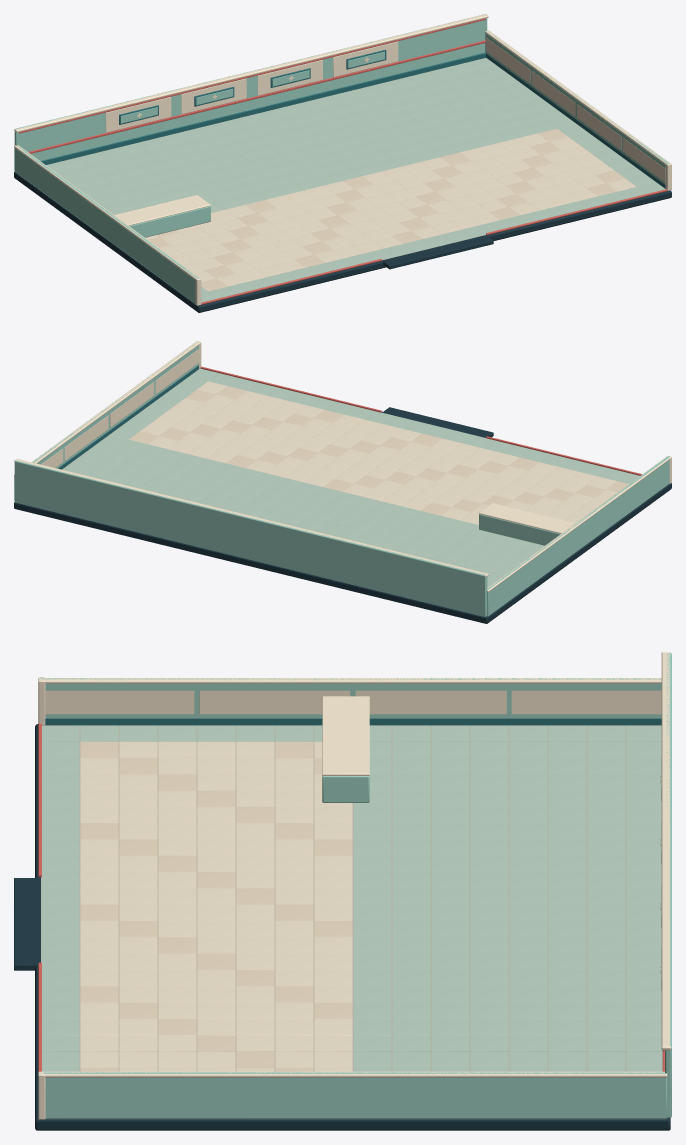
The model's file is center-room.glb.
3 renders of one model, top to bottom at view 1: azimuth 30°, elevation 25°; view 2: azimuth 150°, elevation 25°; view 3: azimuth 270°, elevation 25°, orthographic. The views are drawn at different scales.
Parts seen in each view (by area): view 1: FloorMint, FloorCream, MintCushion, CeramicCream, FloorWarm, SlateRubber, DeepTeal, CoralEnamel, EntranceStep; view 2: MintCushion, FloorMint, FloorCream, FloorWarm, CeramicCream, SlateRubber, CoralEnamel, EntranceStep, DeepTeal; view 3: FloorMint, FloorCream, MintCushion, CeramicCream, FloorWarm, FloorGrout, SlateRubber, DeepTeal, EntranceStep, CoralEnamel.
Boxes of the visible parts, box(x1,y1,x2,y2) form: FloorMint: box(46, 58, 665, 302); FloorCream: box(145, 133, 636, 286); MintCushion: box(14, 14, 669, 303); CeramicCream: box(14, 14, 671, 305); FloorWarm: box(148, 128, 624, 291); SlateRubber: box(14, 172, 671, 312); DeepTeal: box(40, 49, 665, 188); CoralEnamel: box(19, 18, 667, 304); EntranceStep: box(382, 235, 493, 269); MintCushion: box(14, 344, 669, 616); FloorMint: box(62, 368, 639, 587); FloorCream: box(140, 381, 617, 524); FloorWarm: box(129, 386, 628, 515); CeramicCream: box(14, 341, 671, 592); SlateRubber: box(14, 412, 671, 623); CoralEnamel: box(200, 366, 642, 475); EntranceStep: box(382, 407, 493, 437); DeepTeal: box(58, 365, 198, 469); FloorMint: box(41, 725, 662, 1071); FloorCream: box(80, 741, 352, 1071); MintCushion: box(40, 652, 671, 1119); CeramicCream: box(38, 652, 671, 1119); FloorWarm: box(80, 741, 352, 1071); FloorGrout: box(41, 725, 626, 1071); SlateRubber: box(35, 724, 670, 1130); DeepTeal: box(45, 718, 661, 725); EntranceStep: box(14, 878, 40, 970); CoralEnamel: box(38, 723, 664, 1071).
Bounding box in the file's own units: 28.01 × 2.76 × 19.59.
